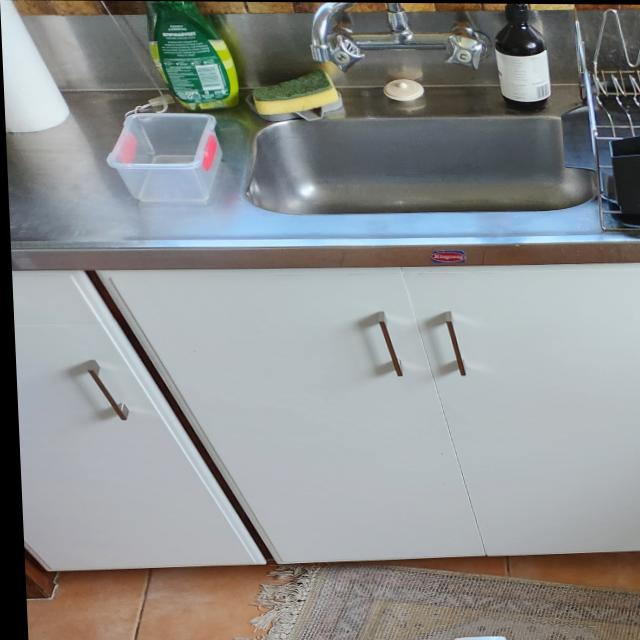honey: (427, 635, 545, 640)
